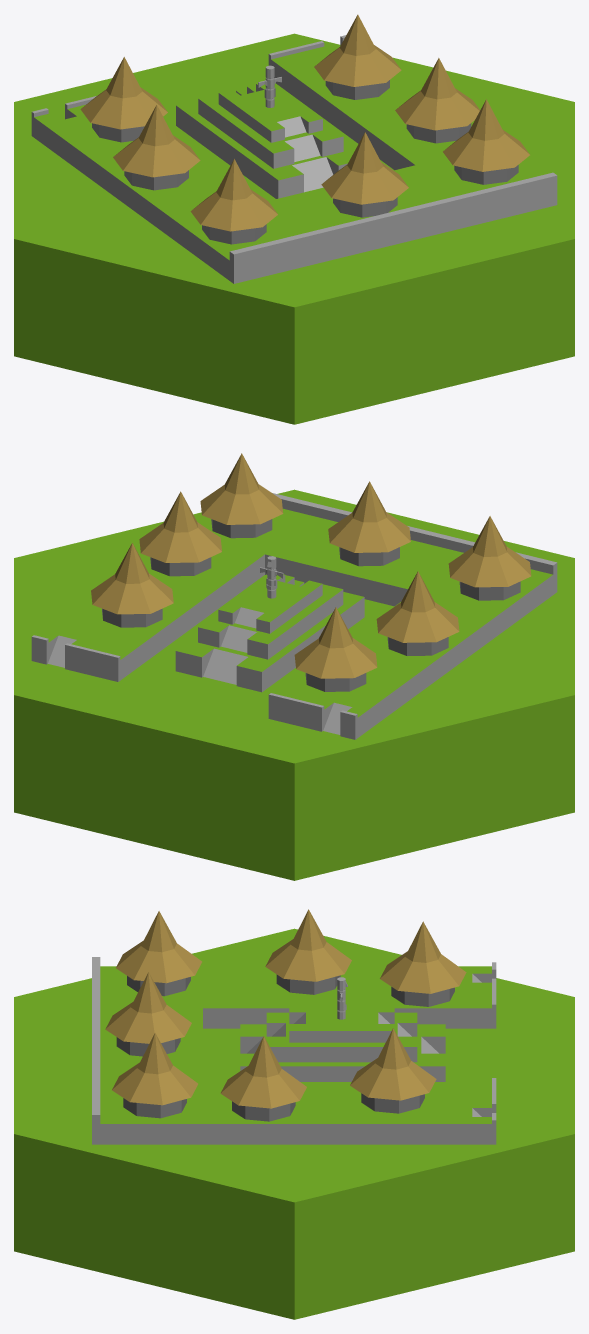
The model's file is Asentamiento_3.fbx.
3 views of the same model, one above another, from view 1: azimuth 30°, elevation 25°; view 2: azimuth 150°, elevation 25°; view 3: azimuth 270°, elevation 25° (orthographic).
Parts seen in each view (by area): view 1: Asentamiento_03; view 2: Asentamiento_03; view 3: Asentamiento_03.
Part boxes in pixels (<box>): Asentamiento_03: <box>14,14,574,424</box>; Asentamiento_03: <box>14,453,574,880</box>; Asentamiento_03: <box>14,909,574,1319</box>.
Bounding box in the file's own units: 200 × 71.57 × 173.
Materials: 1 (1 with a texture image).
